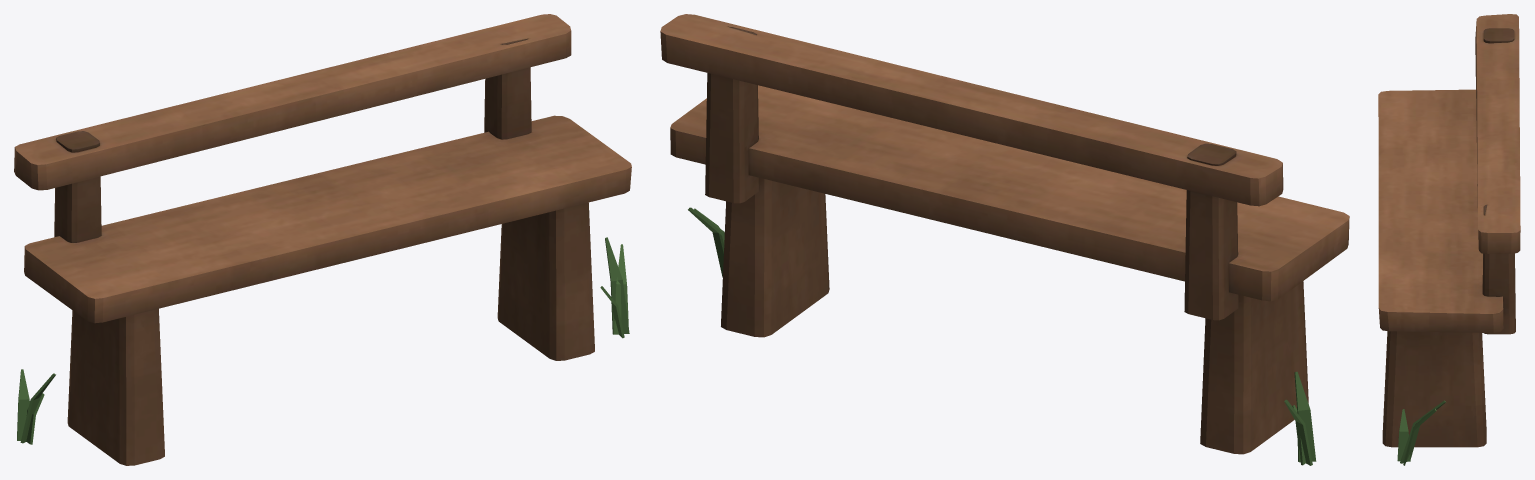
File: bench.glb
3 views of the same model, side by side, from view 1: azimuth 30°, elevation 25°; view 2: azimuth 150°, elevation 25°; view 3: azimuth 270°, elevation 25° (orthographic). The views are drawn at different scales.
Visible parts, largest first — view 1: Bench, v_bench_f_grass_deep; view 2: Bench, v_bench_f_grass_deep; view 3: Bench, v_bench_f_grass_deep.
Part boxes in pixels (x1=…): Bench: x1=14, y1=14, x2=631, y2=465; v_bench_f_grass_deep: x1=17, y1=237, x2=629, y2=444; Bench: x1=660, y1=14, x2=1349, y2=454; v_bench_f_grass_deep: x1=688, y1=207, x2=1316, y2=465; Bench: x1=1378, y1=14, x2=1520, y2=447; v_bench_f_grass_deep: x1=1397, y1=400, x2=1445, y2=465.
Bounding box in the file's own units: 1.85 × 0.8268 × 0.4639.
2 materials, 1 textured.
